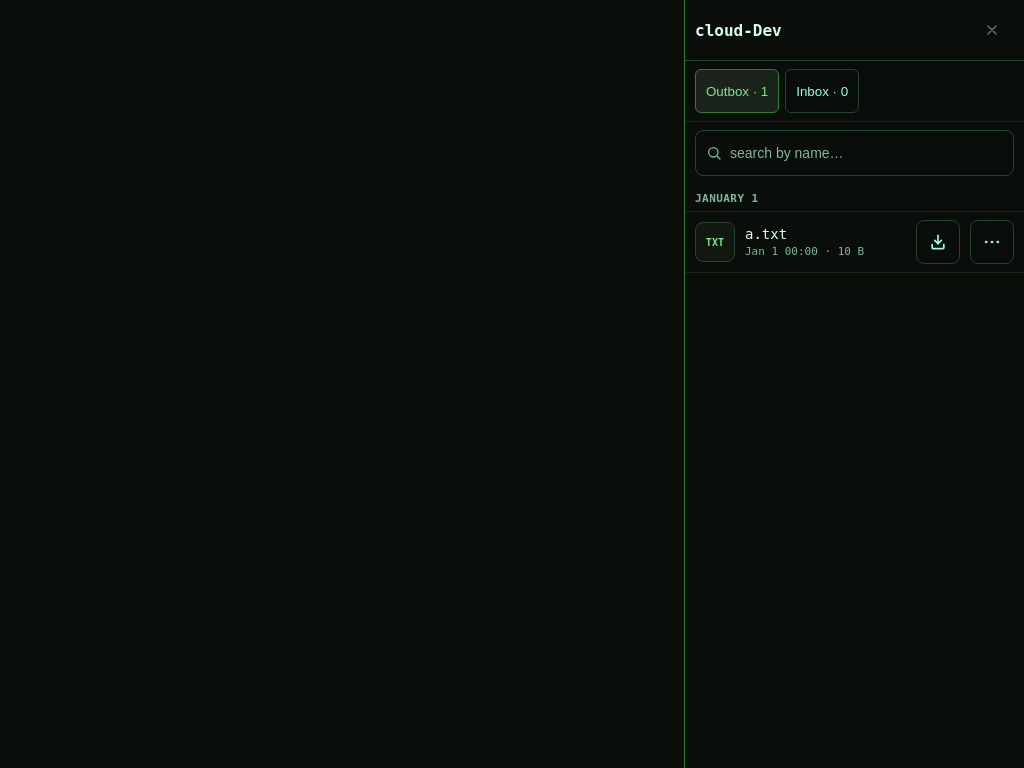
Test case: FilesPanel error messages (R27 #7) › reports a failed delete (sheet, confirm) instead of staying silent and refreshing
The image size is (1024, 768).
Expected: the text "a.txt" is shown, x1=745 y1=226 x2=787 y2=242
Click the button titled "file actions".
click(992, 242)  # box x1=970 y1=220 x2=1014 y2=264
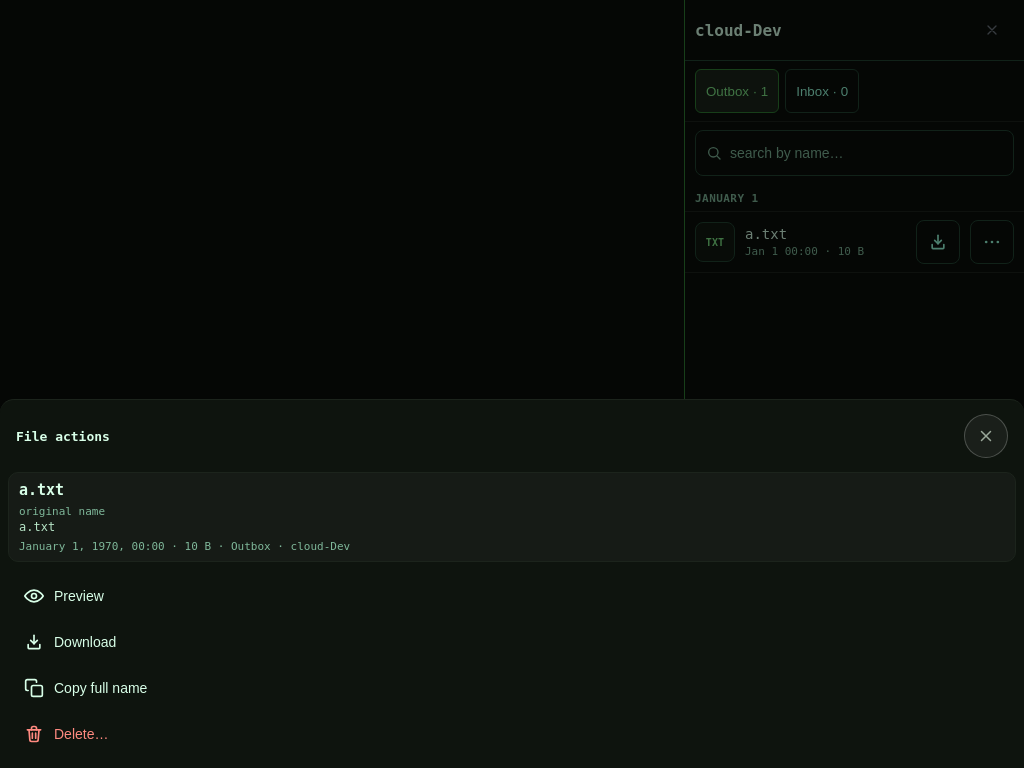
Click the menu item "Delete…".
click(81, 734)  # box x1=12 y1=712 x2=1012 y2=756
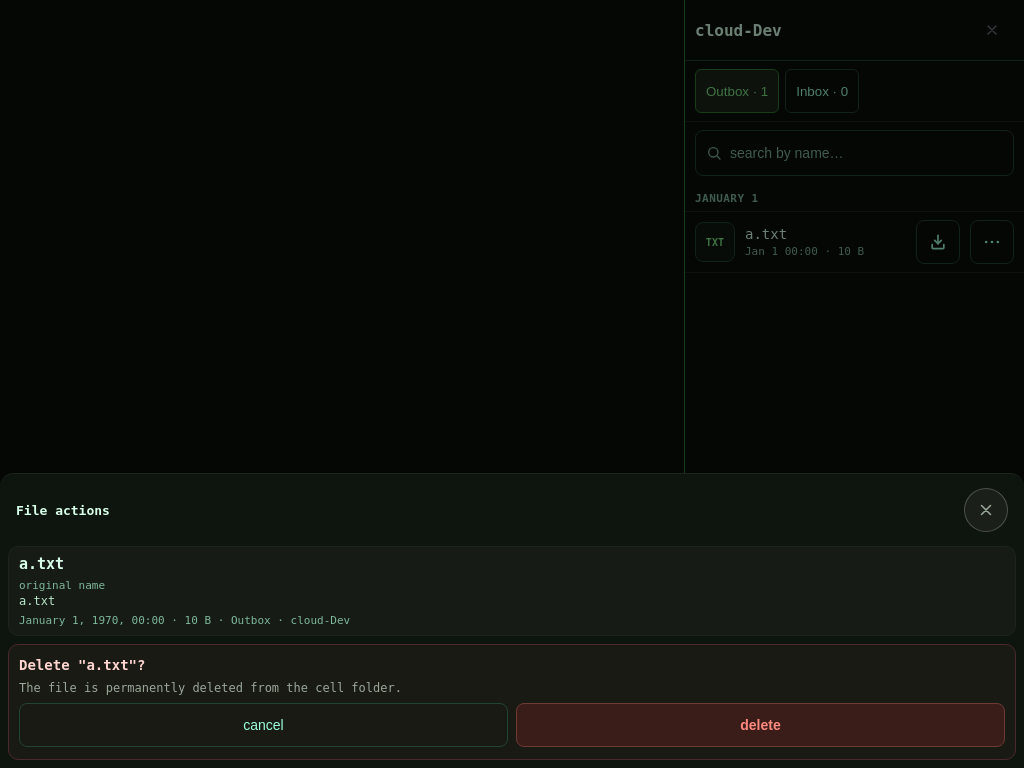
Click the button "delete".
click(760, 725)  # box x1=516 y1=703 x2=1005 y2=747
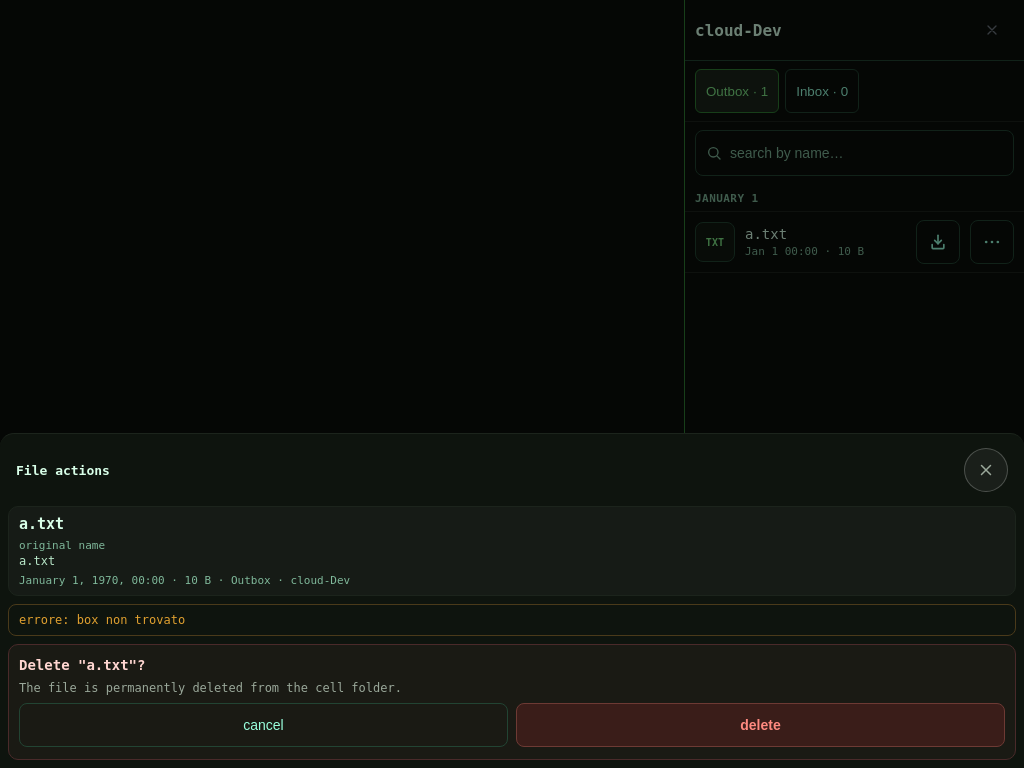
Expected: the text "errore: box non trovato" is shown, x1=8 y1=604 x2=1016 y2=636
